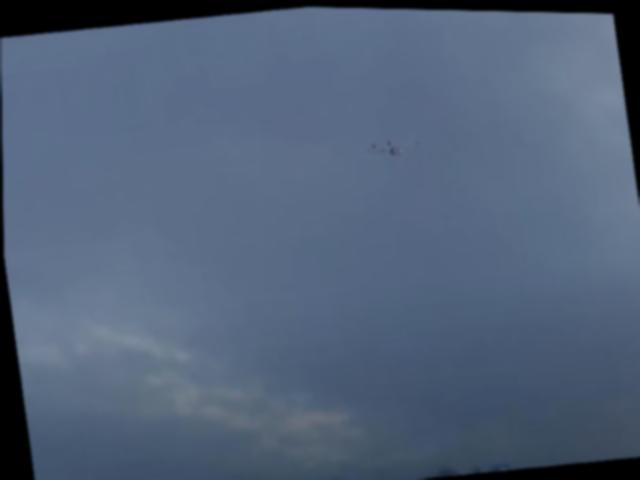iha: (364, 136, 417, 161)
